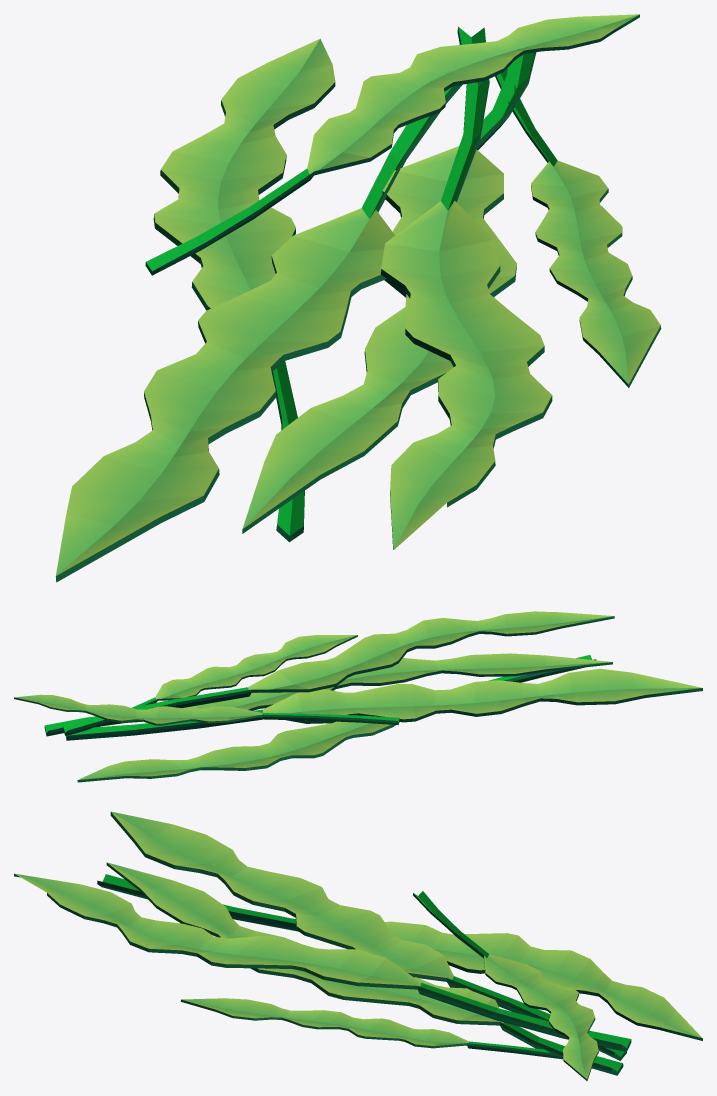
Rendered from Seaweed_2.fbx.
The picture shows the model from 3 angles, top to bottom: view 1: azimuth 30°, elevation 25°; view 2: azimuth 150°, elevation 25°; view 3: azimuth 270°, elevation 25°; orthographic projection. The views are drawn at different scales.
Visible parts, largest first — view 1: Seaweed_2; view 2: Seaweed_2; view 3: Seaweed_2.
Part boxes in pixels (box(x1,y1,x2,y2)): Seaweed_2: box(55, 14, 661, 582); Seaweed_2: box(14, 611, 702, 782); Seaweed_2: box(14, 811, 702, 1080).
Bounding box in the file's own units: 461 × 26.29 × 467.
